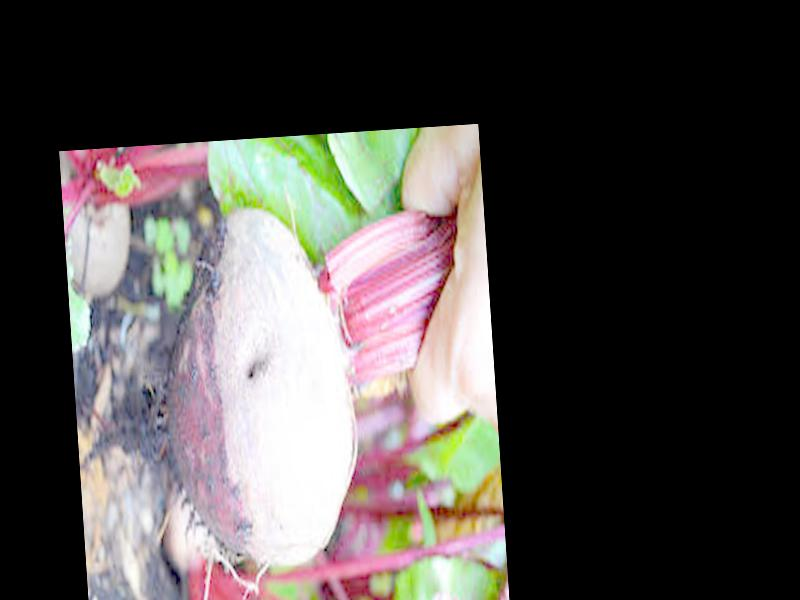Beet: (63, 196, 478, 582)
